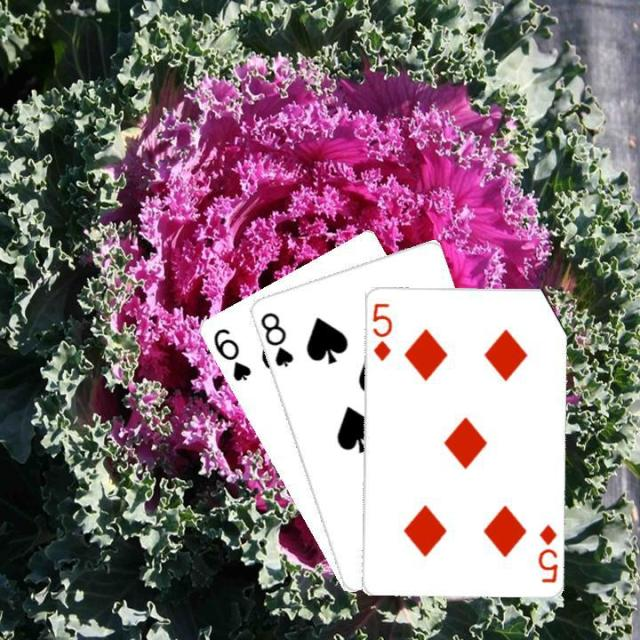5D: (368, 298, 394, 362), (534, 520, 558, 584)
6S: (208, 324, 252, 383)
8S: (256, 307, 295, 369)
